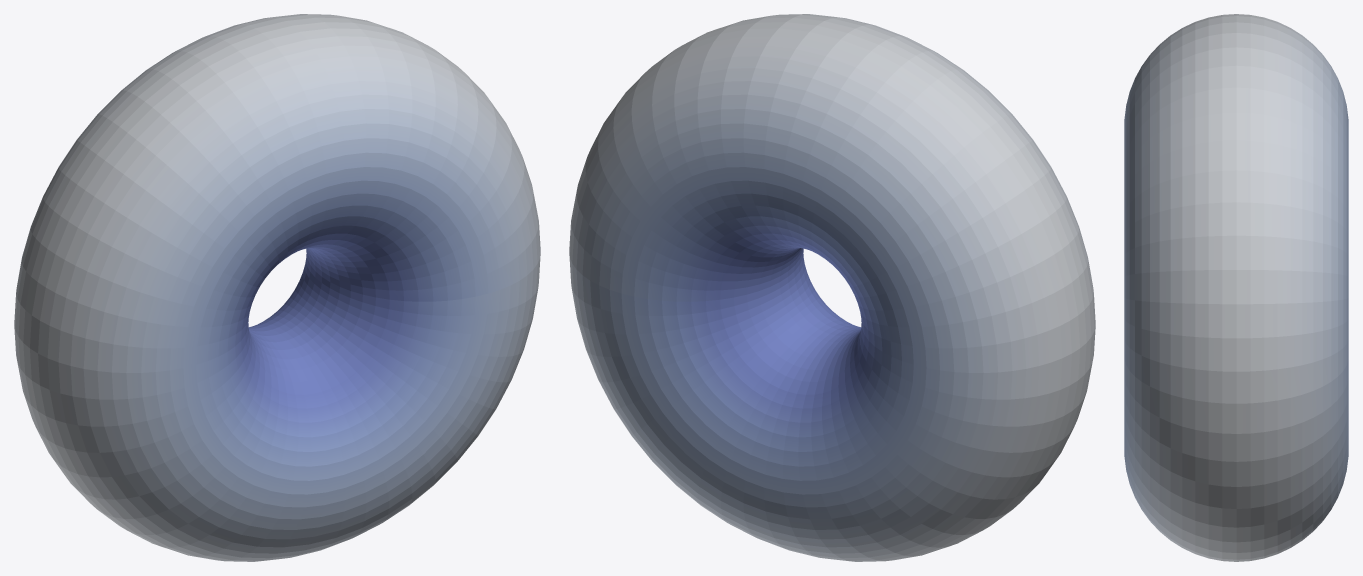
The picture shows the model from 3 angles, left to right: view 1: azimuth 30°, elevation 25°; view 2: azimuth 150°, elevation 25°; view 3: azimuth 270°, elevation 25°; orthographic projection. The views are drawn at different scales.
Parts seen in each view (by area): view 1: world; view 2: world; view 3: world.
Part boxes in pixels (x1=…): world: x1=14, y1=14, x2=540, y2=561; world: x1=569, y1=14, x2=1095, y2=561; world: x1=1124, y1=14, x2=1348, y2=561.
Size of the model in its own units: 19.2 by 19.16 by 7.85.
